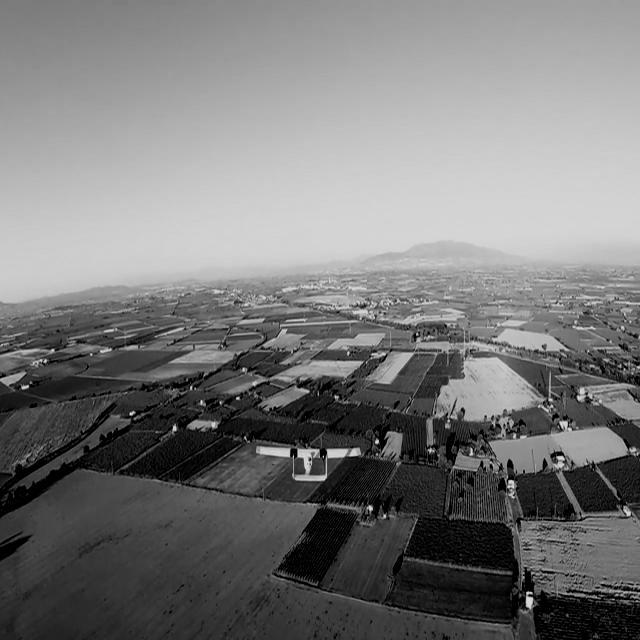iha: (285, 436, 333, 485)
